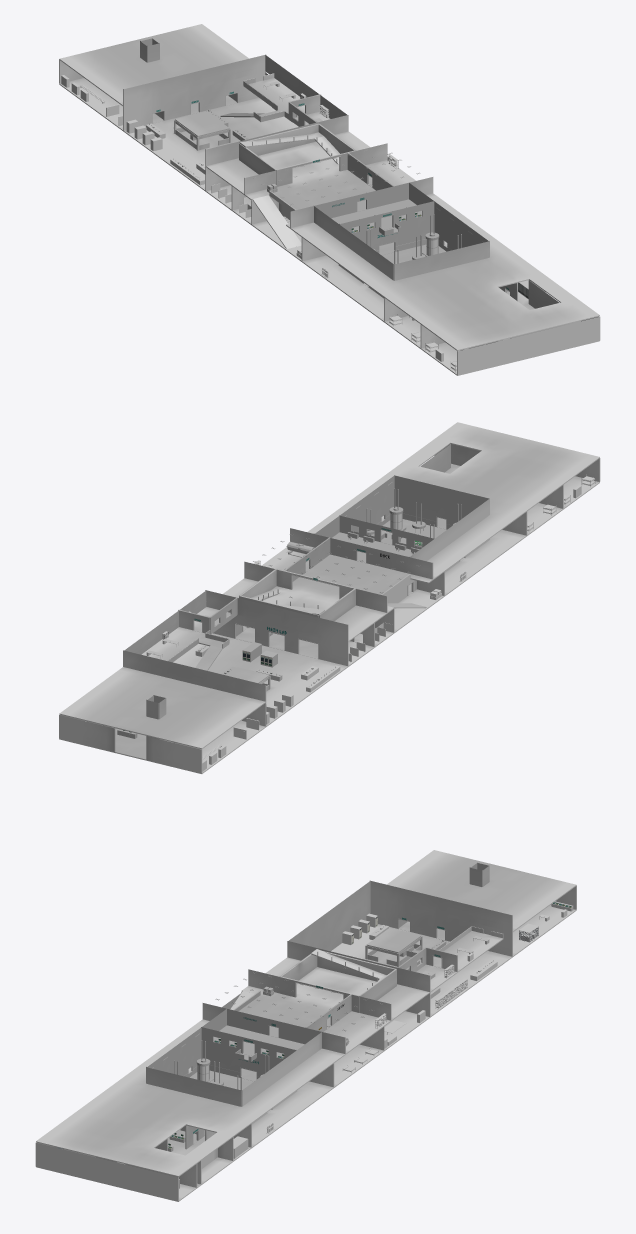
File: site_zero.glb
3 views of the same model, one above another, from view 1: azimuth 30°, elevation 25°; view 2: azimuth 150°, elevation 25°; view 3: azimuth 330°, elevation 25° (orthographic).
Parts seen in each view (by area): view 1: site_zero; view 2: site_zero; view 3: site_zero.
Boxes of the visible parts, bbox=[...] form: site_zero: bbox=[59, 24, 600, 375]; site_zero: bbox=[59, 422, 600, 773]; site_zero: bbox=[35, 850, 576, 1201].
Bounding box in the file's own units: 36 × 11.54 × 214.
Materials: 3 (2 with a texture image).
